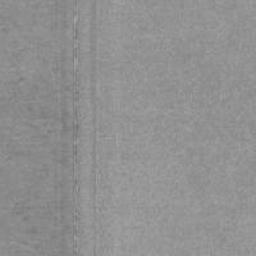Welding line: (72, 0, 81, 256)
